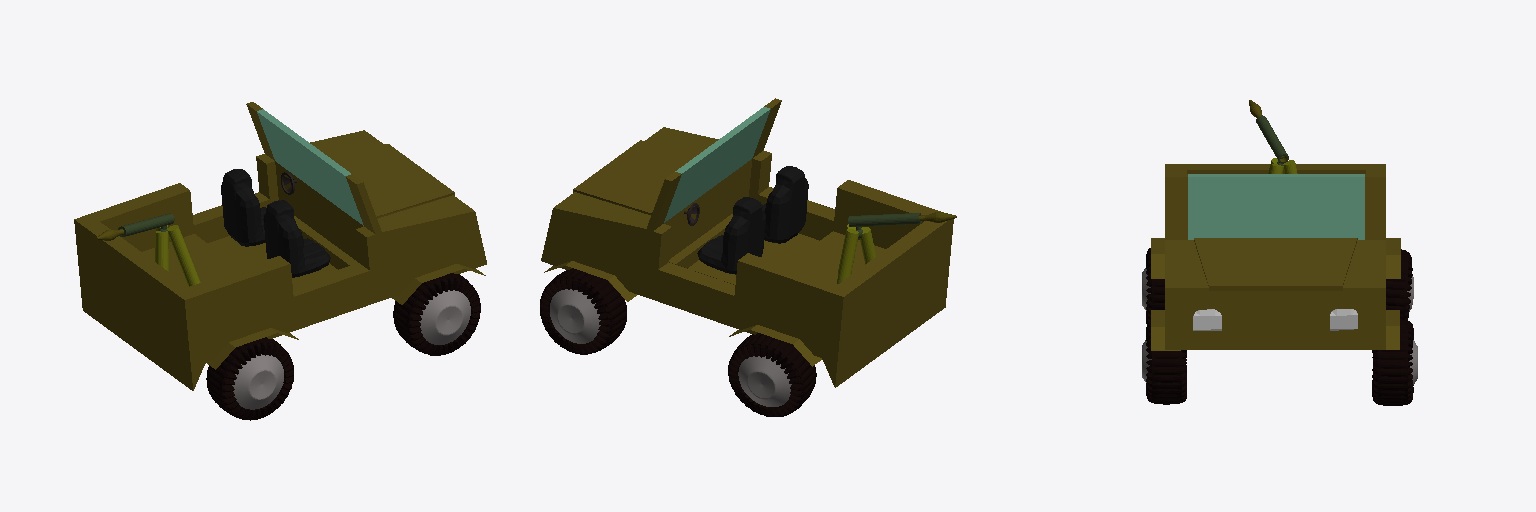
The model's file is military_vehicle_2.obj.
3 views of the same model, side by side, from view 1: azimuth 30°, elevation 25°; view 2: azimuth 150°, elevation 25°; view 3: azimuth 270°, elevation 25° (orthographic).
Visible parts, largest first — view 1: vehicle_body_Cube.003, wheel.001_Tube, wheel_Tube.001, seat.001_Cube.002, seat_Cube.001, rocket_and_Launcher_Cylinder; view 2: vehicle_body_Cube.003, wheel.002_Tube.002, wheel.003_Tube.003, seat_Cube.001, seat.001_Cube.002, rocket_and_Launcher_Cylinder; view 3: vehicle_body_Cube.003, wheel.002_Tube.002, wheel.001_Tube, wheel.003_Tube.003, wheel_Tube.001, rocket_and_Launcher_Cylinder, Head_light.001_Sphere.001.
Boxes of the visible parts, x1=… form: vehicle_body_Cube.003: x1=74, y1=102, x2=486, y2=390; wheel.001_Tube: x1=393, y1=273, x2=480, y2=355; wheel_Tube.001: x1=206, y1=337, x2=293, y2=420; seat.001_Cube.002: x1=263, y1=200, x2=330, y2=277; seat_Cube.001: x1=221, y1=169, x2=265, y2=246; rocket_and_Launcher_Cylinder: x1=96, y1=213, x2=174, y2=240; vehicle_body_Cube.003: x1=541, y1=98, x2=953, y2=387; wheel.002_Tube.002: x1=540, y1=268, x2=626, y2=354; wheel.003_Tube.003: x1=728, y1=333, x2=816, y2=416; seat_Cube.001: x1=697, y1=197, x2=765, y2=274; seat.001_Cube.002: x1=762, y1=166, x2=808, y2=243; rocket_and_Launcher_Cylinder: x1=848, y1=212, x2=956, y2=237; vehicle_body_Cube.003: x1=1151, y1=158, x2=1400, y2=350; wheel.002_Tube.002: x1=1372, y1=319, x2=1417, y2=405; wheel.001_Tube: x1=1142, y1=320, x2=1186, y2=404; wheel.003_Tube.003: x1=1386, y1=249, x2=1413, y2=320; wheel_Tube.001: x1=1142, y1=248, x2=1164, y2=323; rocket_and_Launcher_Cylinder: x1=1249, y1=100, x2=1288, y2=165; Head_light.001_Sphere.001: x1=1330, y1=309, x2=1357, y2=330.
Bounding box in the file's own units: 13.08 × 7.44 × 8.98.